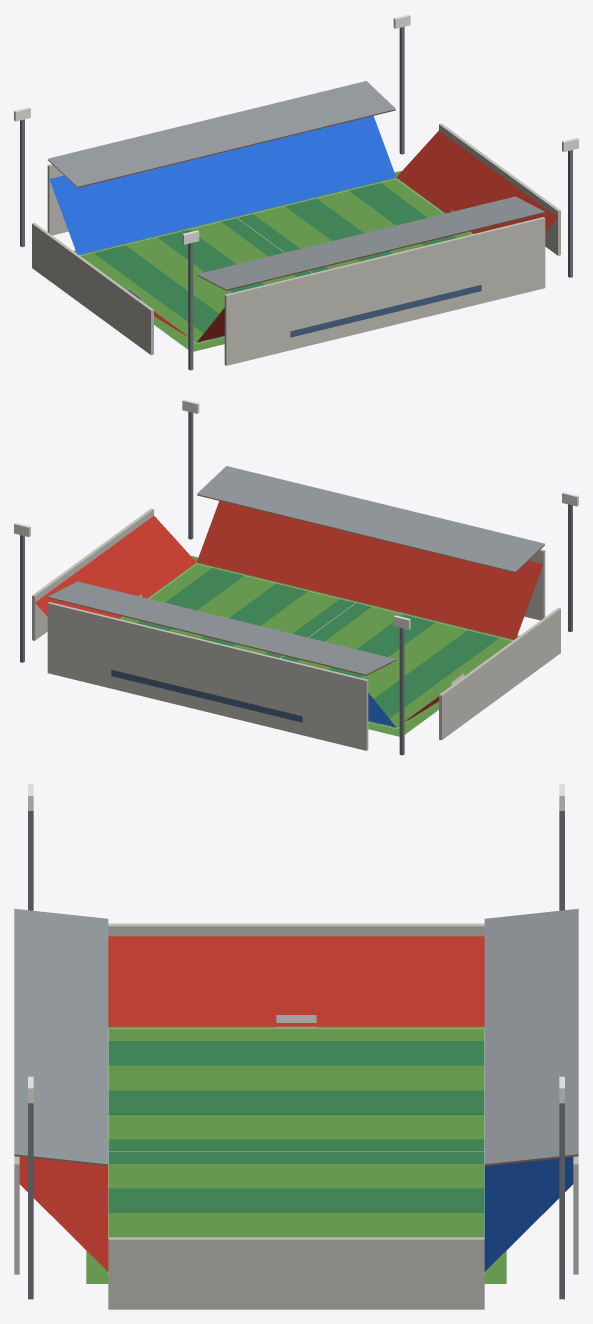
The model's file is stade_foot.glb.
The picture shows the model from 3 angles, top to bottom: view 1: azimuth 30°, elevation 25°; view 2: azimuth 150°, elevation 25°; view 3: azimuth 270°, elevation 25°; orthographic projection. The views are drawn at different scales.
Visible parts, largest first — view 1: stade_foot; view 2: stade_foot; view 3: stade_foot.
Part boxes in pixels (box(x1,y1,x2,y2)): stade_foot: box(14, 14, 578, 370); stade_foot: box(14, 399, 578, 755); stade_foot: box(14, 784, 578, 1309).
Bounding box in the file's own units: 135 × 43 × 102.
1 material, 1 textured.
